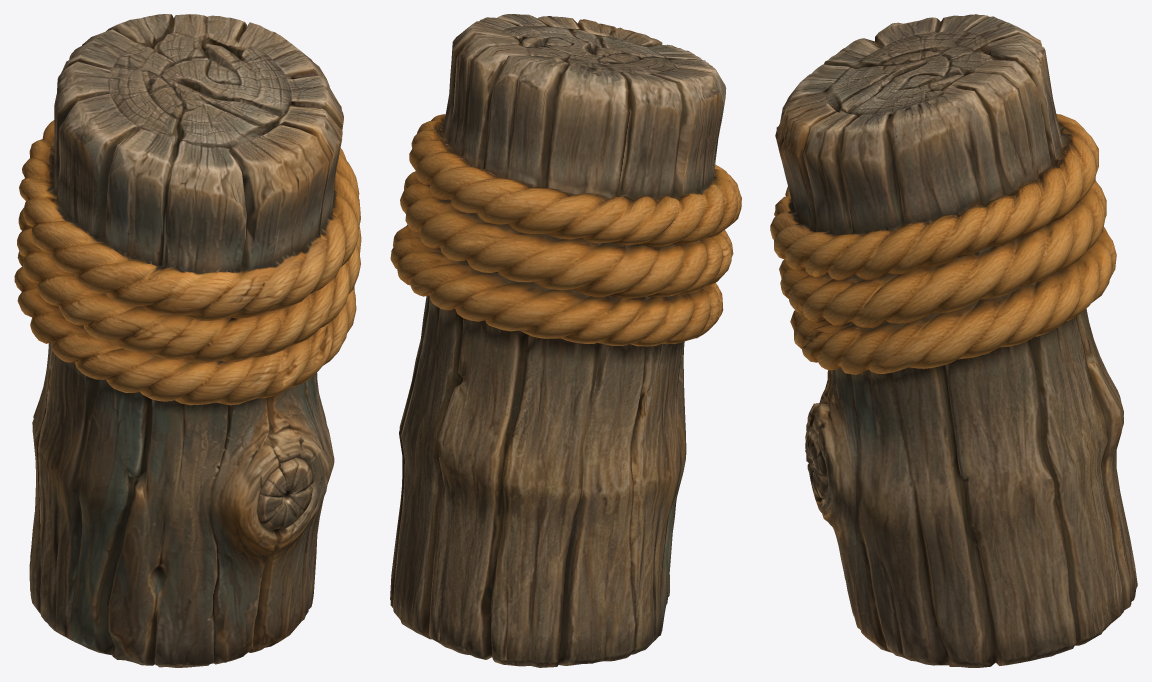
File: mooring-post.glb
3 renders of one model, left to right at view 1: azimuth 30°, elevation 25°; view 2: azimuth 150°, elevation 25°; view 3: azimuth 270°, elevation 25°, orthographic. The views are drawn at different scales.
Visible parts, largest first — view 1: tripo_node_a572663a-e54b-41de-bb18-6779e9e2c5a6; view 2: tripo_node_a572663a-e54b-41de-bb18-6779e9e2c5a6; view 3: tripo_node_a572663a-e54b-41de-bb18-6779e9e2c5a6.
Part boxes in pixels (box(x1,y1,x2,y2)): tripo_node_a572663a-e54b-41de-bb18-6779e9e2c5a6: box(14, 14, 361, 667); tripo_node_a572663a-e54b-41de-bb18-6779e9e2c5a6: box(390, 14, 741, 667); tripo_node_a572663a-e54b-41de-bb18-6779e9e2c5a6: box(770, 14, 1137, 667).
Bounding box in the file's own units: 0.5258 × 0.9771 × 0.564.
1 material, 1 textured.
